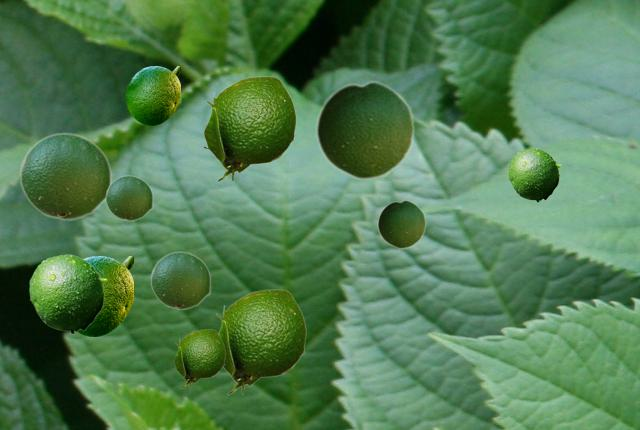dalandan: (315, 80, 414, 180), (202, 76, 295, 181), (215, 289, 305, 394), (19, 132, 111, 220), (29, 254, 106, 333), (78, 256, 132, 335), (150, 251, 210, 309), (126, 66, 179, 124), (173, 329, 224, 387), (508, 148, 560, 201), (377, 199, 425, 248), (105, 175, 152, 220)
